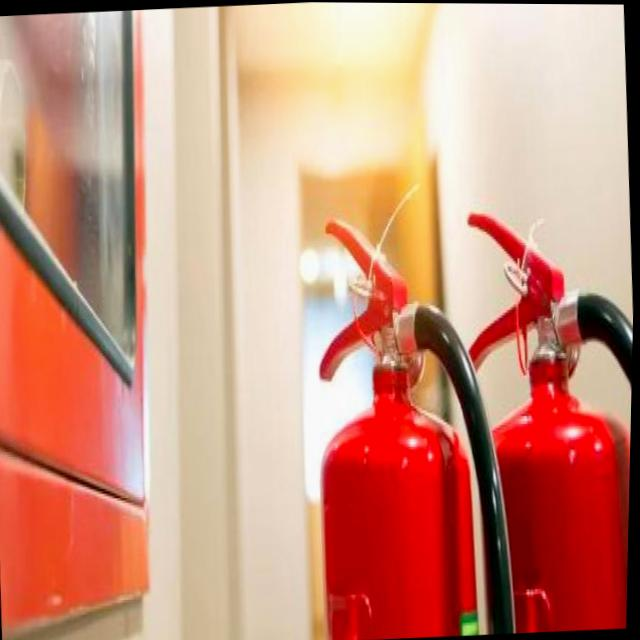FireExtinguisher: (297, 195, 536, 640), (429, 185, 637, 634)
